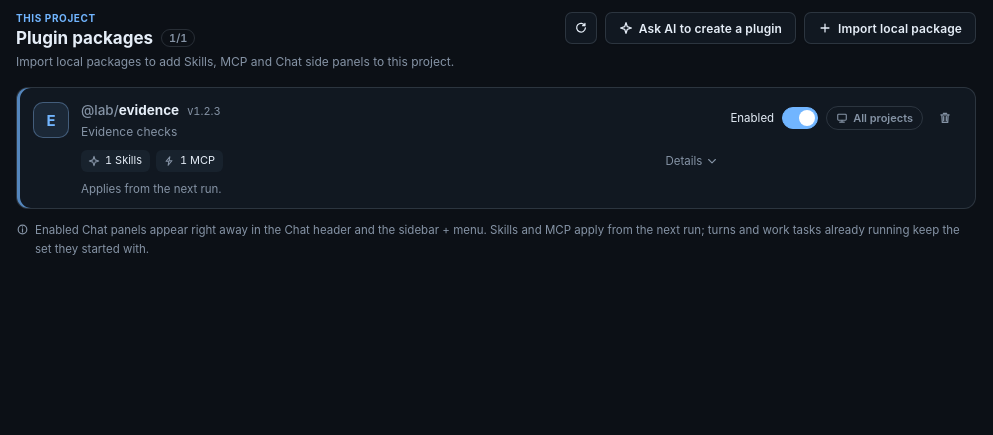
Plugin packages › turns an enabled package on for all projects after showing what that runs
Click the switch named "Enable @lab/evidence for all projects" at (875, 118), box [826, 106, 923, 130]
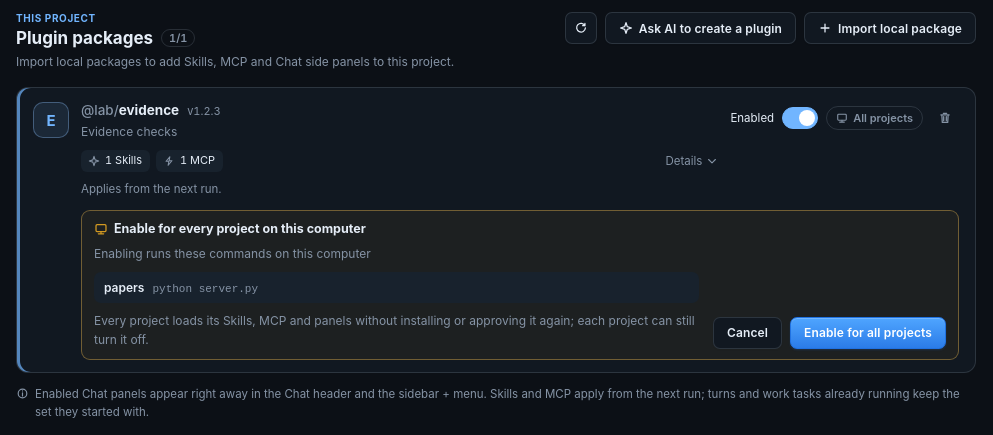
Expected: the text "python server.py" is shown, [152, 282, 258, 294]
Click the button "Enable for all projects" at (868, 333), box [790, 317, 946, 349]
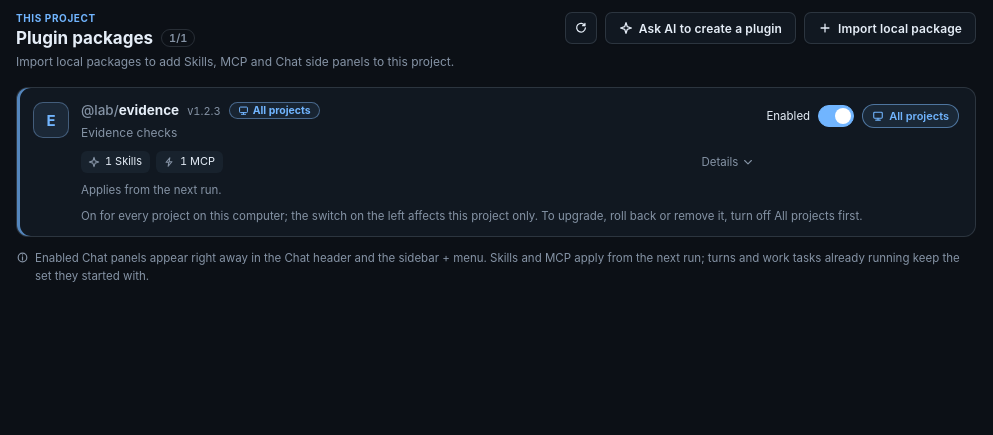
Expected: the text "the switch on the left affects this project only" is shown, [81, 209, 862, 223]
